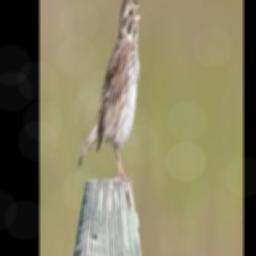Sparrow: (77, 0, 142, 180)
